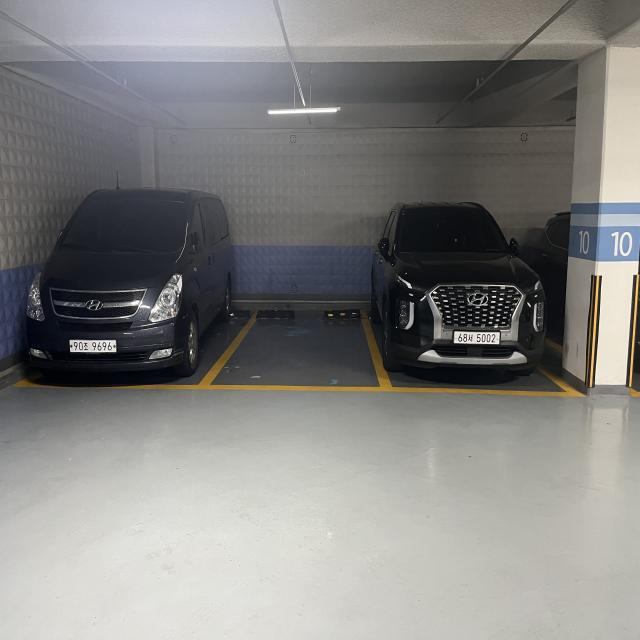Car: (15, 172, 215, 396), (372, 190, 578, 402)
Vacant: (212, 307, 381, 383)
